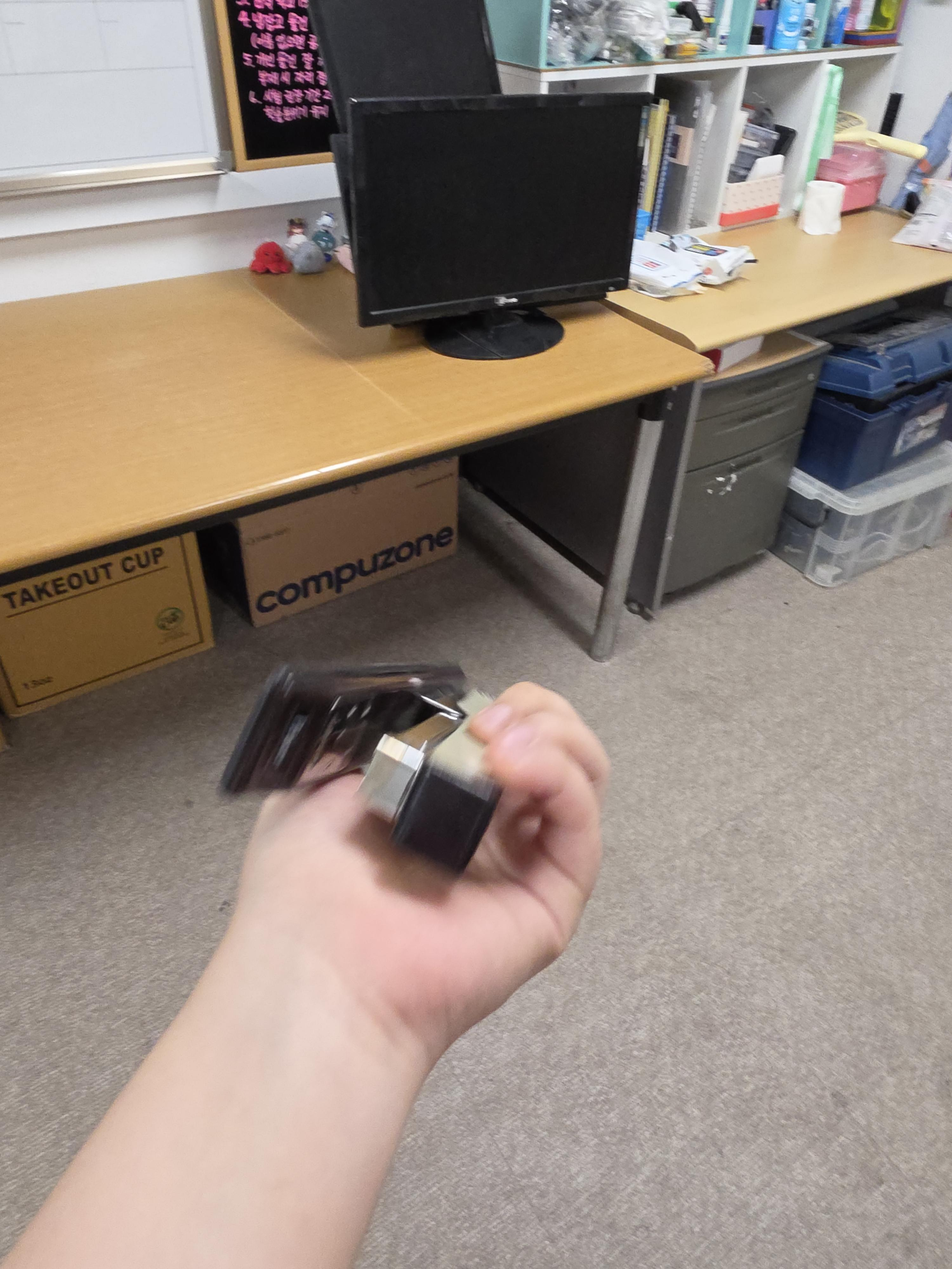stapler: (217, 658, 503, 876)
tissue: (716, 154, 785, 227), (800, 180, 846, 236)
